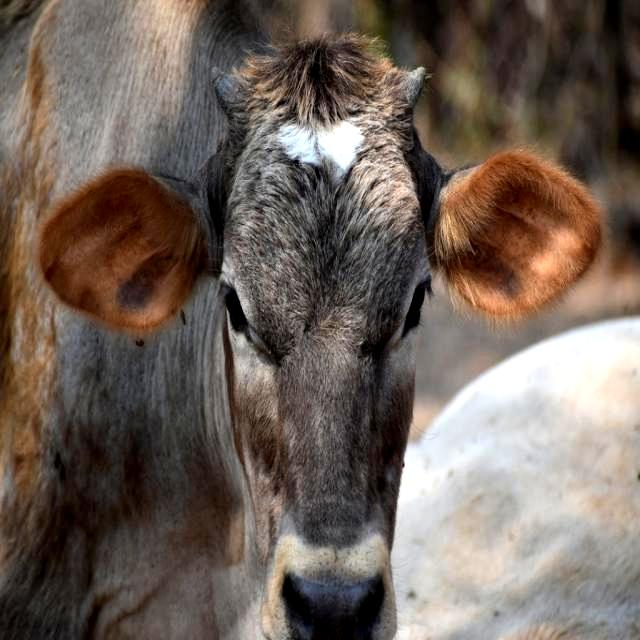COW: (1, 0, 600, 639)
